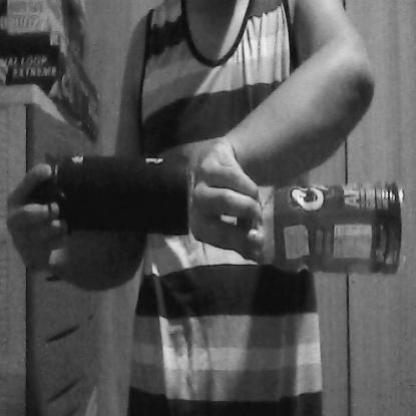Plastic Bottle: (226, 162, 412, 290)
